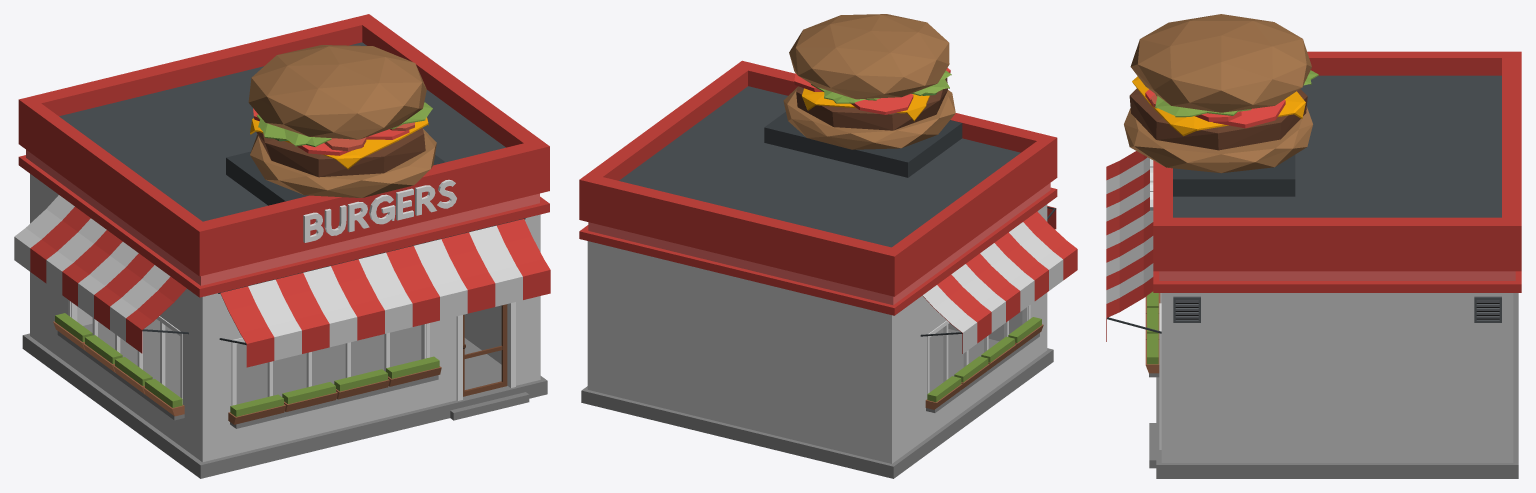
The model's file is Burgers_01.fbx.
3 renders of one model, left to right at view 1: azimuth 30°, elevation 25°; view 2: azimuth 150°, elevation 25°; view 3: azimuth 270°, elevation 25°, orthographic. The views are drawn at different scales.
Visible parts, largest first — view 1: Burgers_01, Burgers_01_Door1; view 2: Burgers_01; view 3: Burgers_01.
Boxes of the visible parts, x1=… form: Burgers_01: x1=14, y1=14, x2=550, y2=478; Burgers_01_Door1: x1=463, y1=304, x2=507, y2=396; Burgers_01: x1=579, y1=14, x2=1077, y2=478; Burgers_01: x1=1106, y1=14, x2=1521, y2=478.
Bounding box in the file's own units: 748 × 640 × 677.
